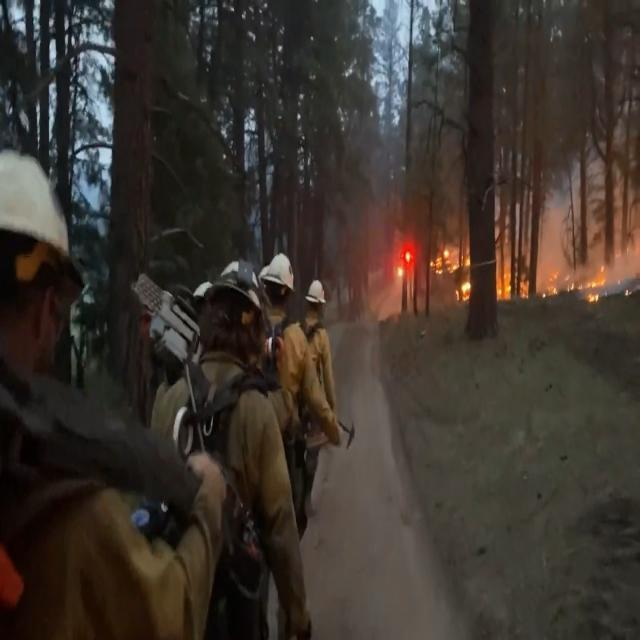Fire: (392, 228, 614, 313)
